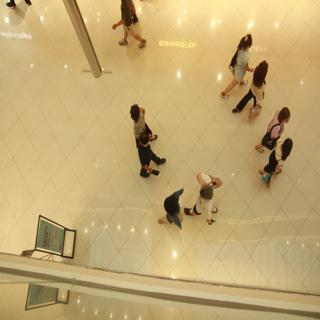person: (127, 96, 162, 184), (187, 165, 230, 229), (219, 20, 249, 99), (251, 109, 295, 151), (247, 57, 275, 116), (266, 139, 295, 194), (158, 191, 183, 235)
